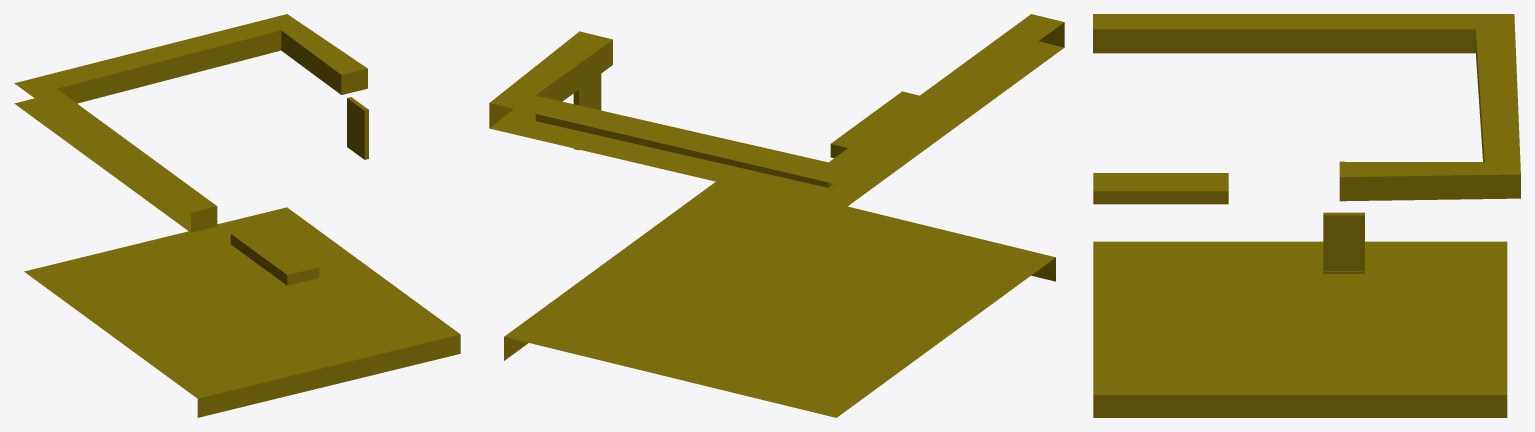
Rendered from DarkWoodText.fbx.
3 renders of one model, left to right at view 1: azimuth 30°, elevation 25°; view 2: azimuth 150°, elevation 25°; view 3: azimuth 270°, elevation 25°, orthographic. The views are drawn at different scales.
Parts seen in each view (by area): view 1: pCube1, pCube29, pCube6, polySurface11; view 2: pCube1, pCube29, pCube6, polySurface11; view 3: pCube1, pCube29, pCube6, polySurface11.
Part boxes in pixels (x1,y1,x2,y2): pCube1: [24, 207, 460, 417]; pCube29: [14, 14, 367, 232]; pCube6: [230, 226, 319, 285]; polySurface11: [347, 97, 368, 159]; pCube1: [504, 181, 1055, 417]; pCube29: [489, 14, 1064, 210]; pCube6: [830, 91, 919, 157]; polySurface11: [573, 74, 601, 150]; pCube1: [1093, 241, 1507, 417]; pCube29: [1093, 14, 1520, 201]; pCube6: [1093, 173, 1228, 204]; polySurface11: [1323, 212, 1364, 273].
Bounding box in the file's own units: 7.46 × 5.26 × 8.26.
